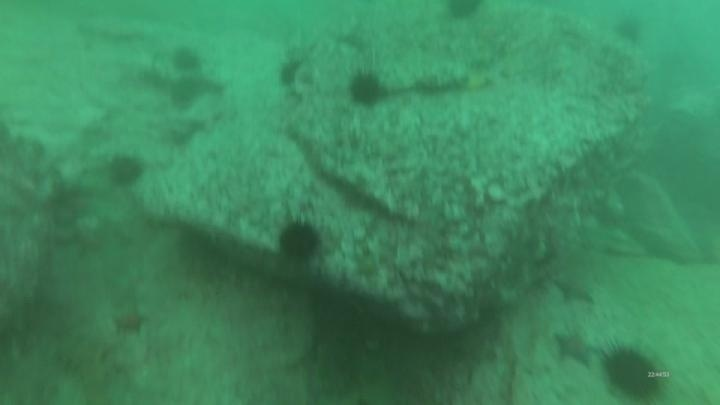echinus: (598, 341, 668, 403), (276, 218, 323, 263), (346, 69, 387, 109), (105, 153, 146, 189), (167, 76, 204, 112), (169, 45, 204, 76), (442, 0, 486, 24), (612, 15, 646, 46), (275, 56, 305, 91)
starfish: (551, 327, 600, 371), (550, 268, 599, 308), (110, 304, 150, 339)
